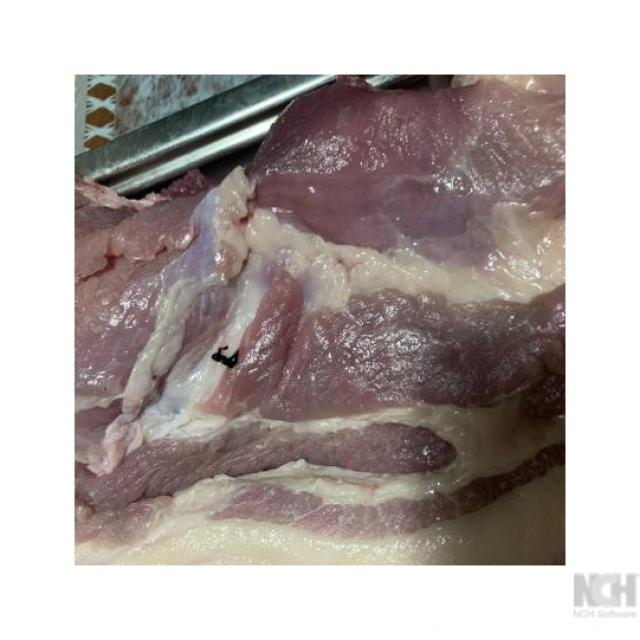rotten meat: (52, 55, 591, 575)
